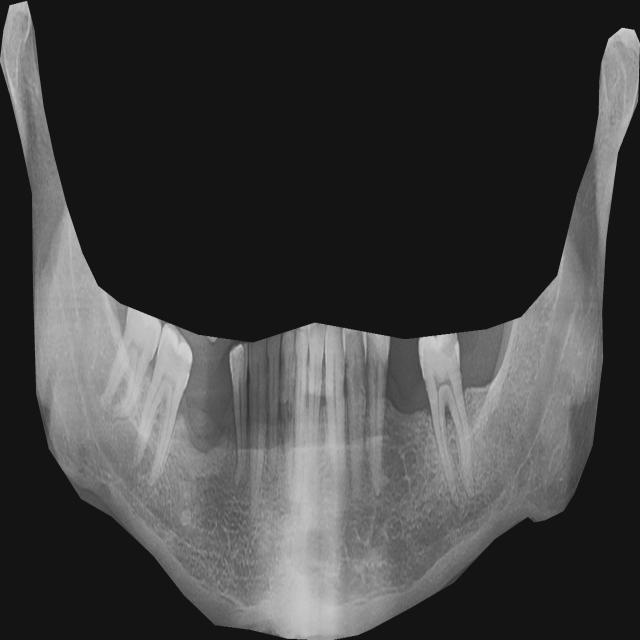mandibula: (0, 1, 640, 640)
